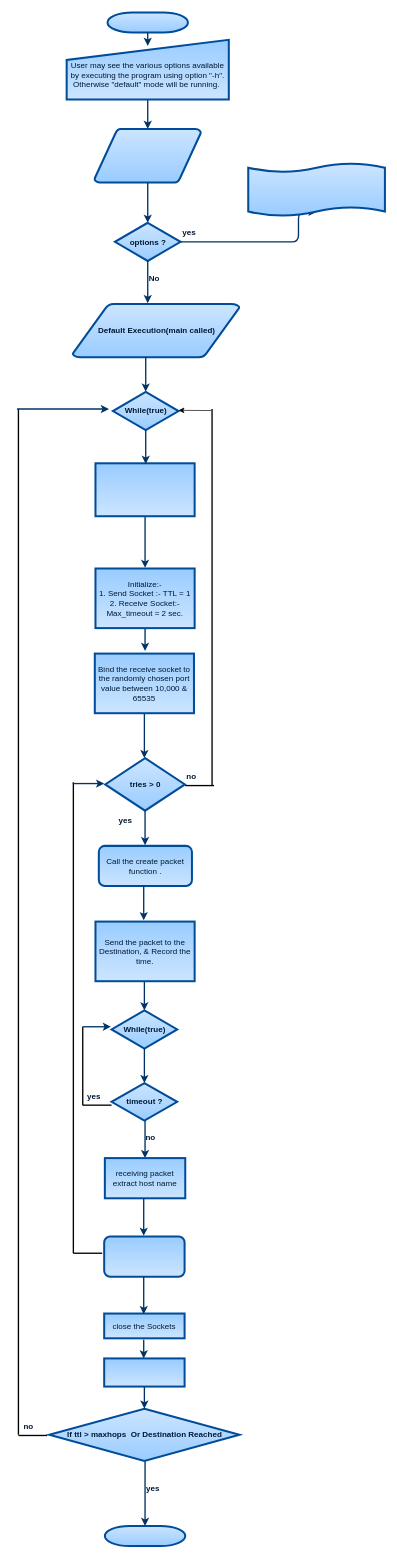
Some shapes in this 397 by 1558 pixel diagram are drawn without their labels. Here are the shapes that lost their labels. From the top down, the centre of each, then its label:
point (147, 22): start
point (147, 155): check for user input given
point (316, 189): Set the parameters accordingly while sending or receiving packets
point (144, 489): Create Send and Receive Raw Sockets.
point (144, 1256): tries = tries -1
point (144, 1372): Print the Details
point (145, 1536): end
